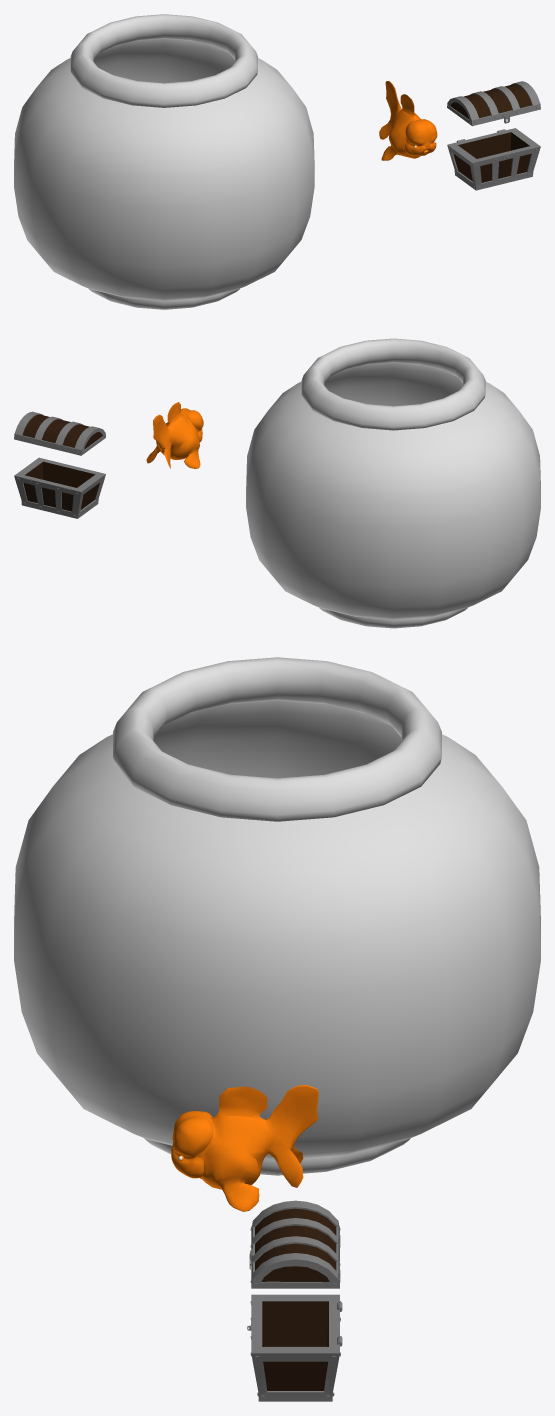
File: finishedMayaUVsAndMats.obj
3 renders of one model, top to bottom at view 1: azimuth 30°, elevation 25°; view 2: azimuth 150°, elevation 25°; view 3: azimuth 270°, elevation 25°, orthographic. The views are drawn at different scales.
Visible parts, largest first — view 1: FishBowl, chestBottom, GoldFish, cubeChestTop; view 2: FishBowl, chestBottom, cubeChestTop, GoldFish; view 3: FishBowl, GoldFish, chestBottom, cubeChestTop.
Part boxes in pixels (box(x1,y1,x2,y2)): FishBowl: box(14, 14, 314, 309); chestBottom: box(447, 128, 540, 190); GoldFish: box(379, 81, 437, 160); cubeChestTop: box(447, 81, 540, 126); FishBowl: box(246, 338, 540, 628); chestBottom: box(14, 457, 105, 518); cubeChestTop: box(14, 411, 105, 455); GoldFish: box(146, 402, 203, 468); FishBowl: box(14, 657, 540, 1175); GoldFish: box(171, 1085, 318, 1211); chestBottom: box(247, 1294, 342, 1401); cubeChestTop: box(249, 1200, 340, 1288).
Size of the model in its own units: 37.03 by 16.13 by 19.19.
